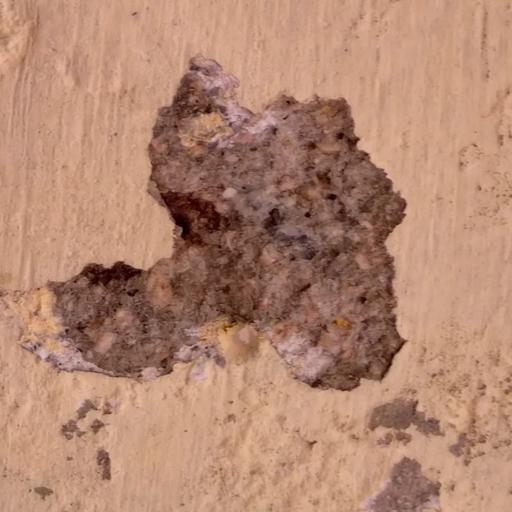spalling: (11, 41, 423, 411)
